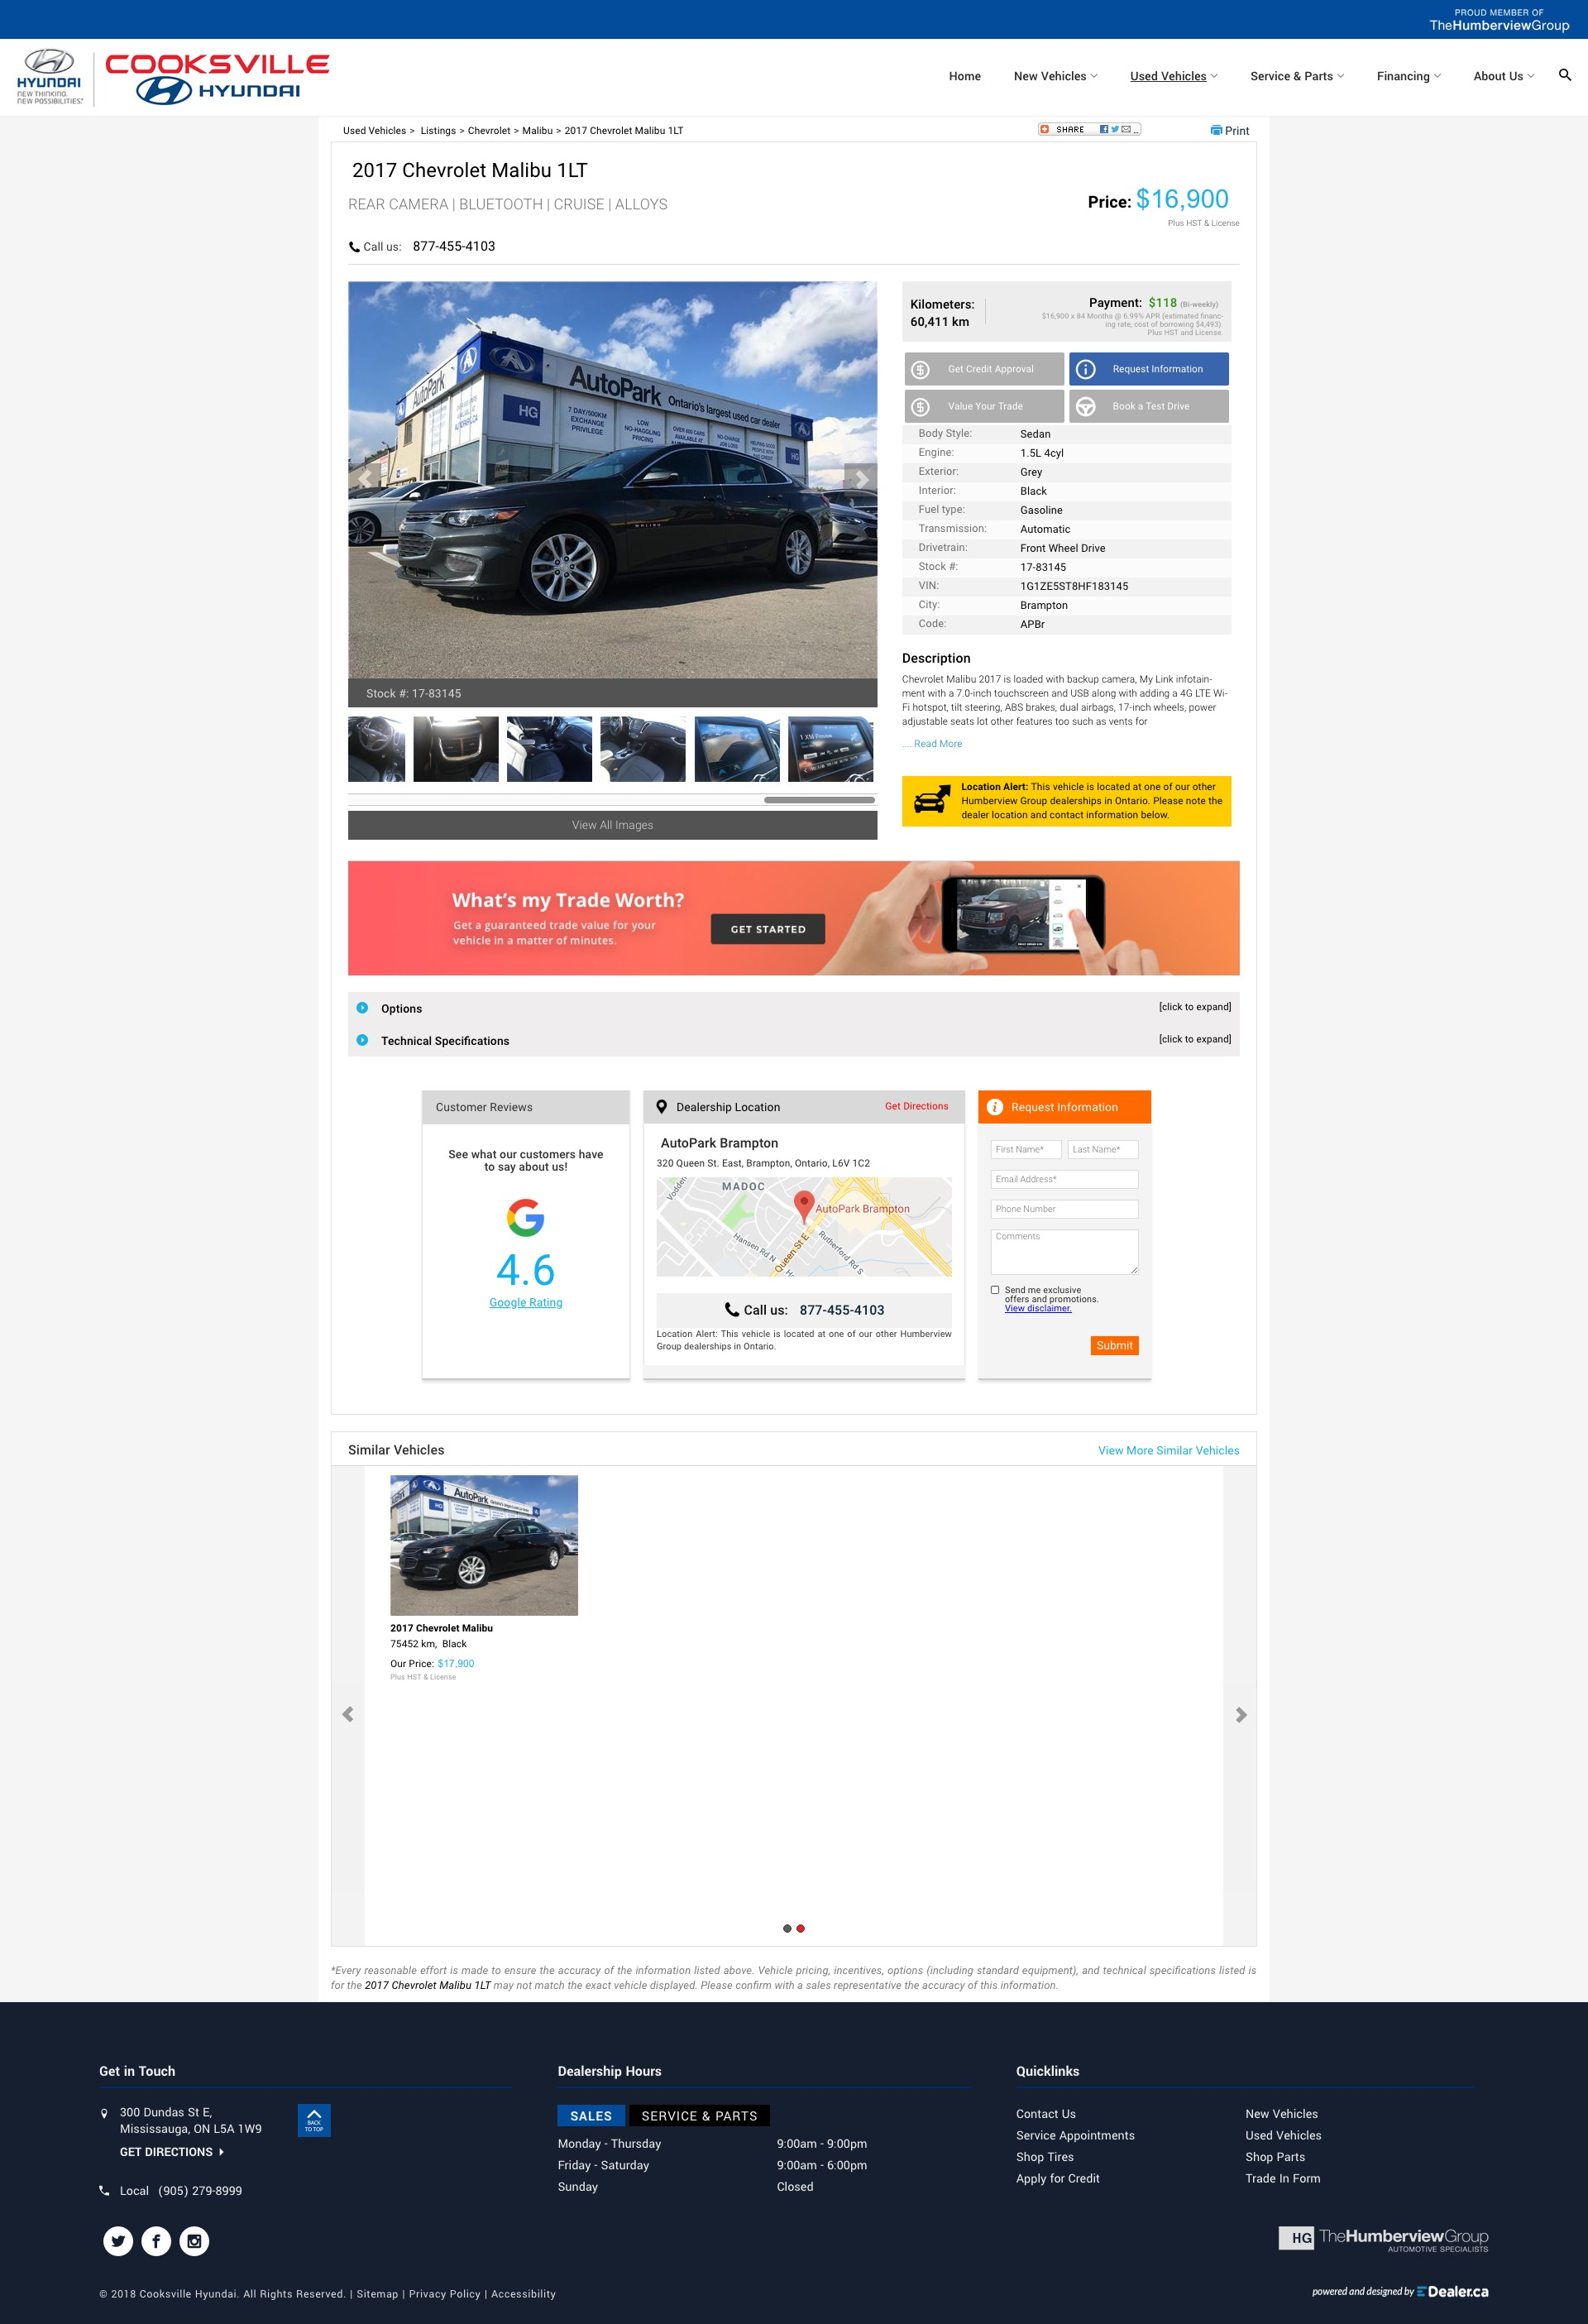car: (843, 463, 879, 498)
